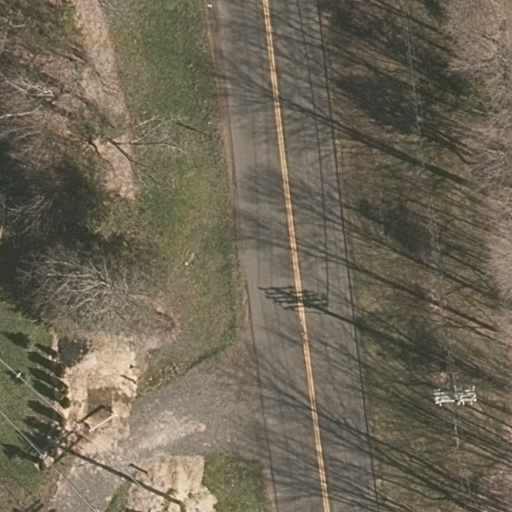DT: (431, 384, 479, 407)
